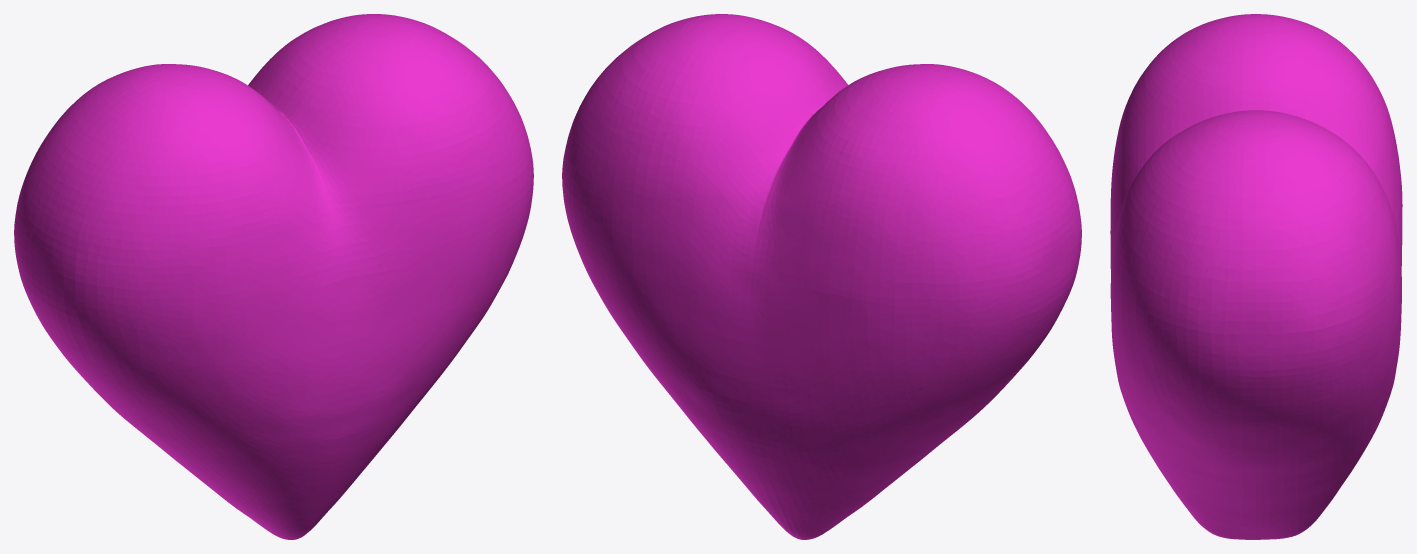
The model's file is pinkheart.glb.
The picture shows the model from 3 angles, left to right: view 1: azimuth 30°, elevation 25°; view 2: azimuth 150°, elevation 25°; view 3: azimuth 270°, elevation 25°; orthographic projection. The views are drawn at different scales.
Parts seen in each view (by area): view 1: world; view 2: world; view 3: world.
Boxes of the visible parts, <box> form: world: <box>14,14,533,539</box>; world: <box>562,14,1081,539</box>; world: <box>1110,14,1402,539</box>.
Size of the model in its own units: 0.9998 by 0.9626 by 0.5496.
